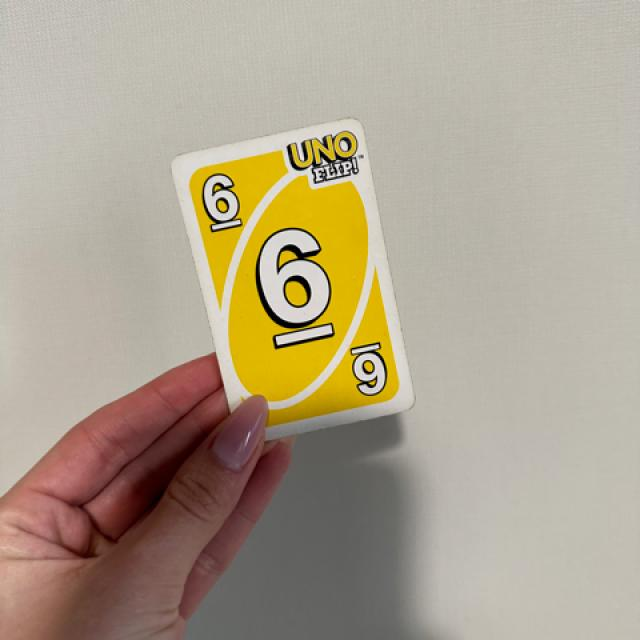lyellow-6: (193, 157, 256, 240)
